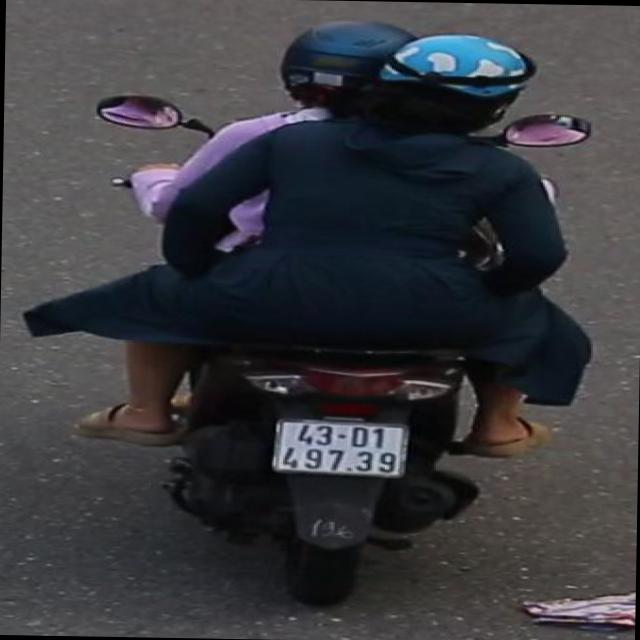LP: (268, 412, 415, 480)
helmet: (377, 27, 543, 140), (276, 15, 420, 106)
